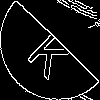K: (25, 25, 79, 81)
